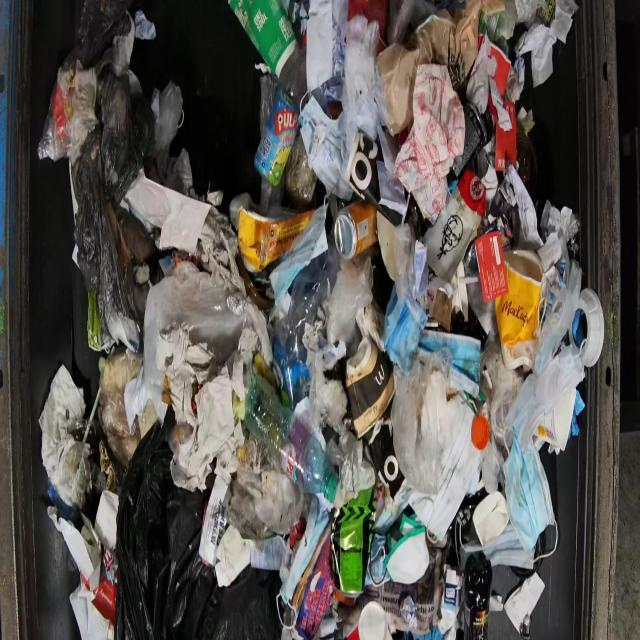E-waste: (36, 0, 604, 638)
cups: (493, 247, 543, 370)
